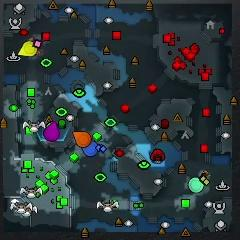p1: (83, 141, 99, 157)
p2: (189, 178, 205, 192)
p3: (43, 122, 59, 142)
p4: (17, 41, 37, 56)
p5: (72, 131, 91, 147)
x1: (29, 37, 42, 53)
